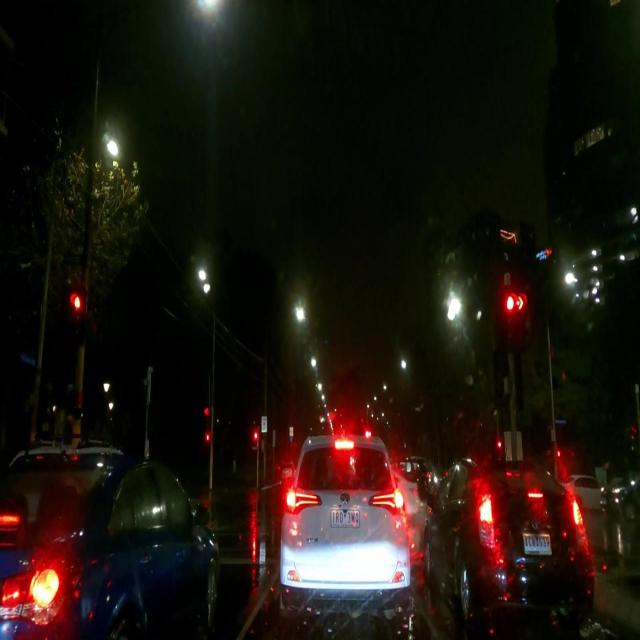Car: (7, 455, 217, 639), (424, 455, 591, 636), (278, 440, 413, 618)
